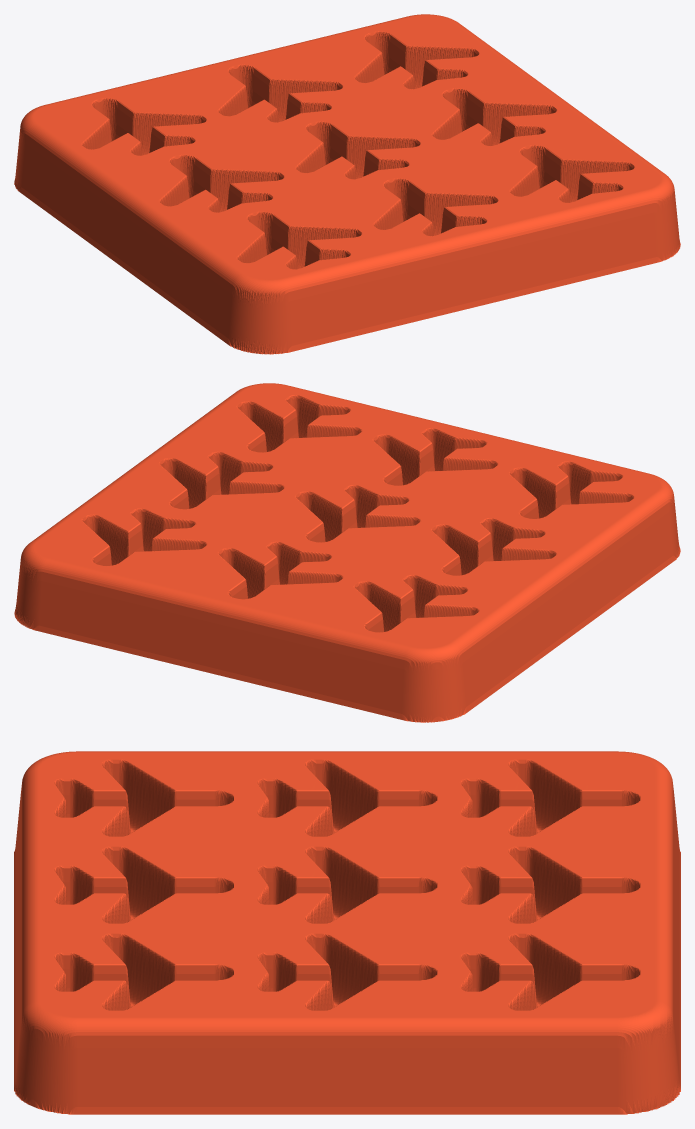
Rendered from mold.glb.
The picture shows the model from 3 angles, top to bottom: view 1: azimuth 30°, elevation 25°; view 2: azimuth 150°, elevation 25°; view 3: azimuth 270°, elevation 25°; orthographic projection. The views are drawn at different scales.
Visible parts, largest first — view 1: geometry_0; view 2: geometry_0; view 3: geometry_0.
Boxes of the visible parts, <box> form: geometry_0: <box>14,14,680,354</box>; geometry_0: <box>14,383,680,722</box>; geometry_0: <box>14,751,680,1114</box>.
Bounding box in the file's own units: 0.0964 × 0.0136 × 0.0952.
